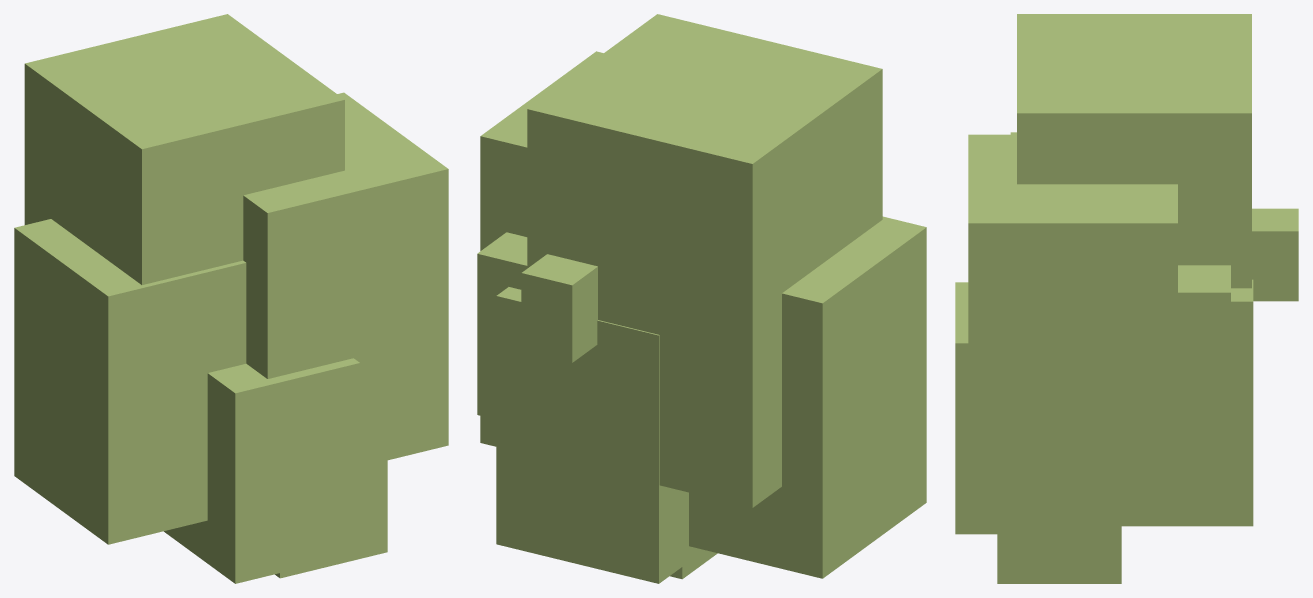
File: EtheriumOre.fbx
3 renders of one model, left to right at view 1: azimuth 30°, elevation 25°; view 2: azimuth 150°, elevation 25°; view 3: azimuth 270°, elevation 25°, orthographic. The views are drawn at different scales.
Visible parts, largest first — view 1: Cube.001; view 2: Cube.001; view 3: Cube.001.
Part boxes in pixels (<box>): Cube.001: <box>14,14,448,583</box>; Cube.001: <box>477,14,926,583</box>; Cube.001: <box>955,14,1298,583</box>.
Bounding box in the file's own units: 106 × 144 × 98.31.
